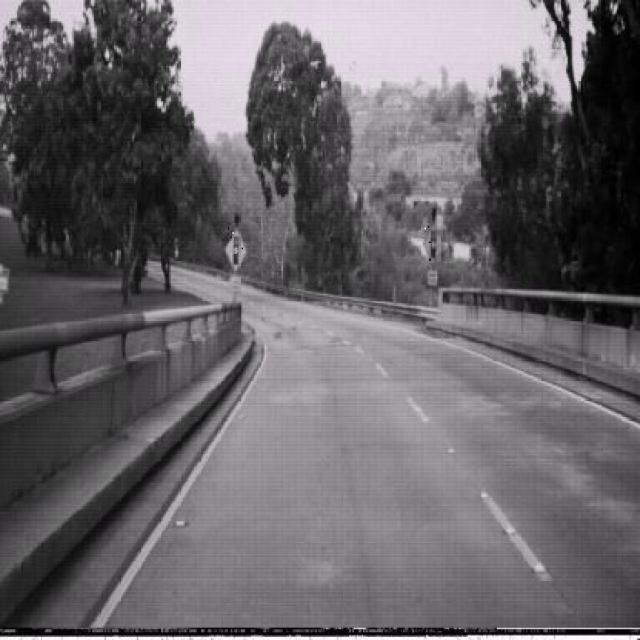signalAhead: (224, 228, 247, 271), (423, 223, 445, 265)
